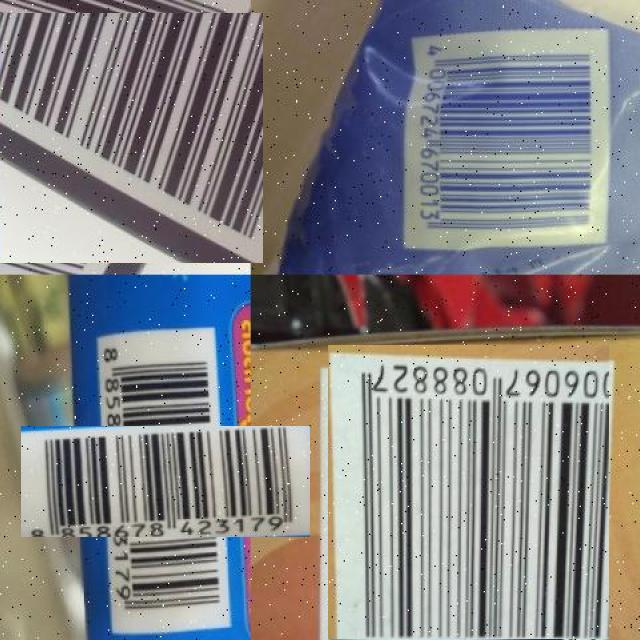Barcode: (322, 351, 616, 640), (0, 6, 257, 268), (399, 28, 614, 251), (65, 382, 266, 582)
